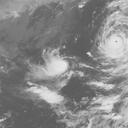cyclone: (26, 52, 76, 105), (94, 3, 127, 73)
